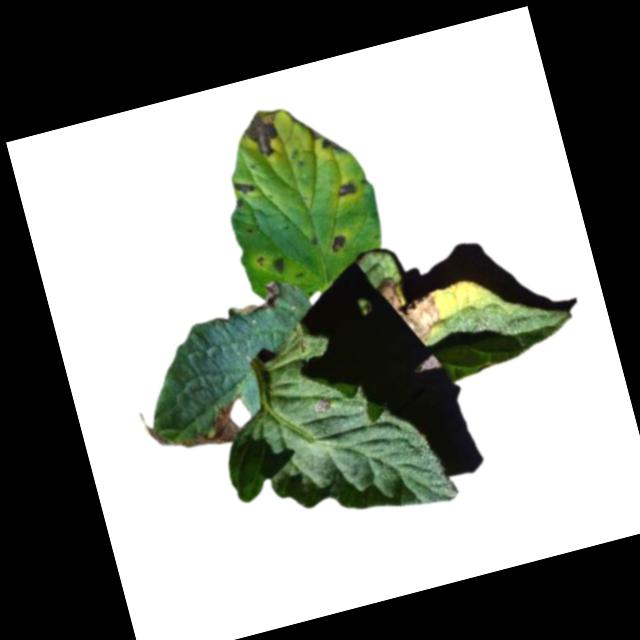Early_blight: (133, 389, 244, 465), (374, 269, 445, 352), (239, 103, 288, 161), (233, 277, 290, 322), (321, 132, 351, 157), (333, 177, 360, 200), (328, 231, 349, 255), (270, 252, 291, 275), (233, 176, 257, 195), (312, 396, 332, 416)
